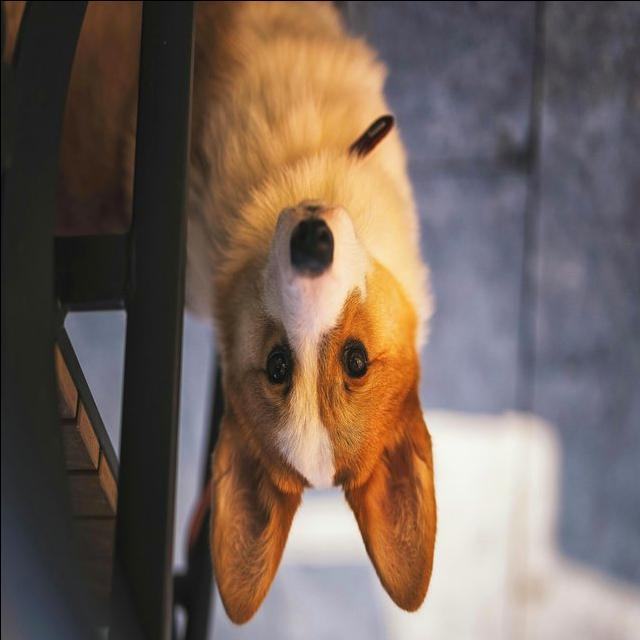corgi: (182, 2, 439, 626)
